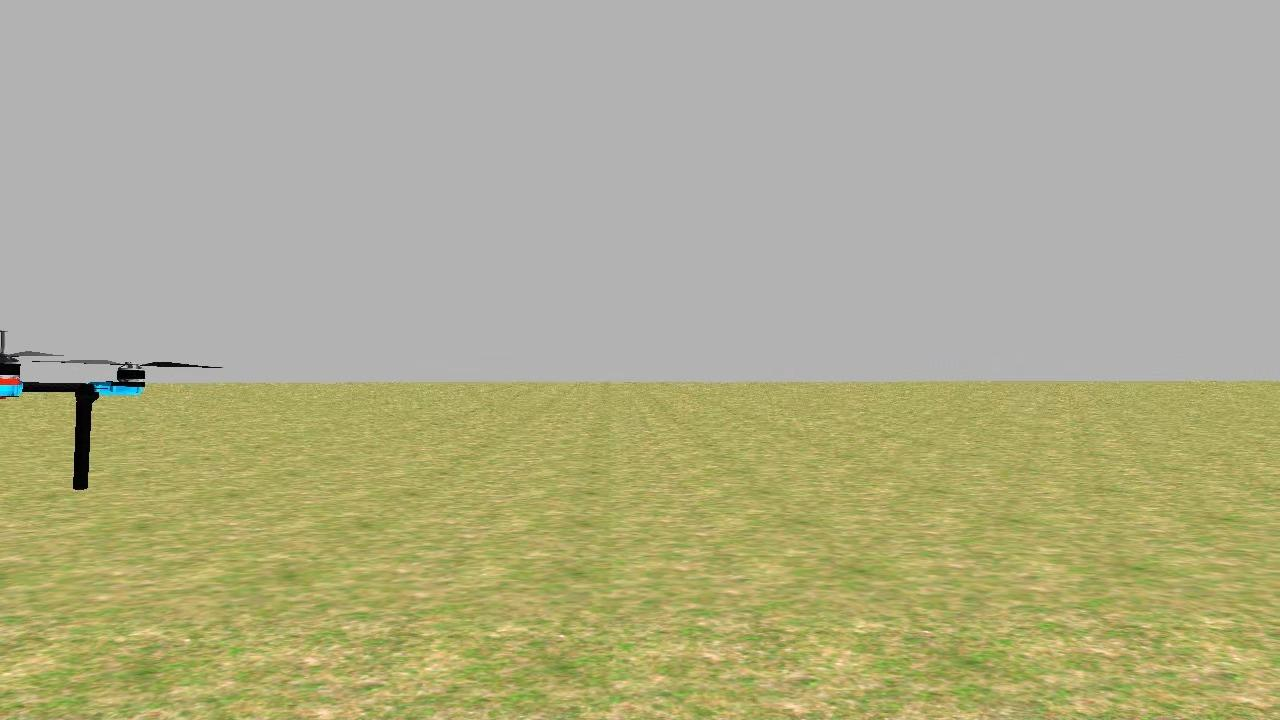UAV: (0, 296, 160, 550)
